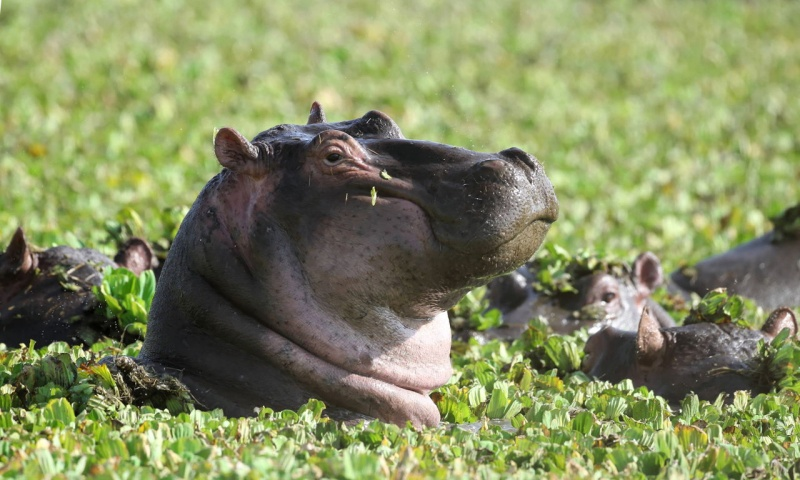hipopotamo: (140, 95, 556, 445)
